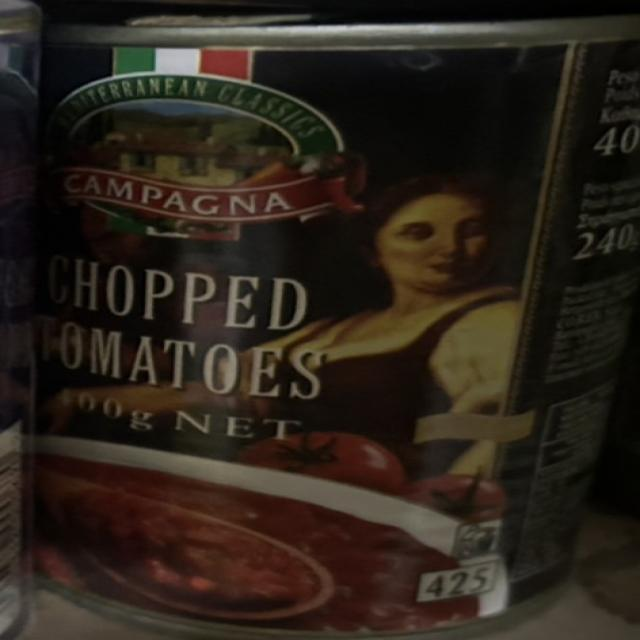can: (29, 0, 640, 629)
